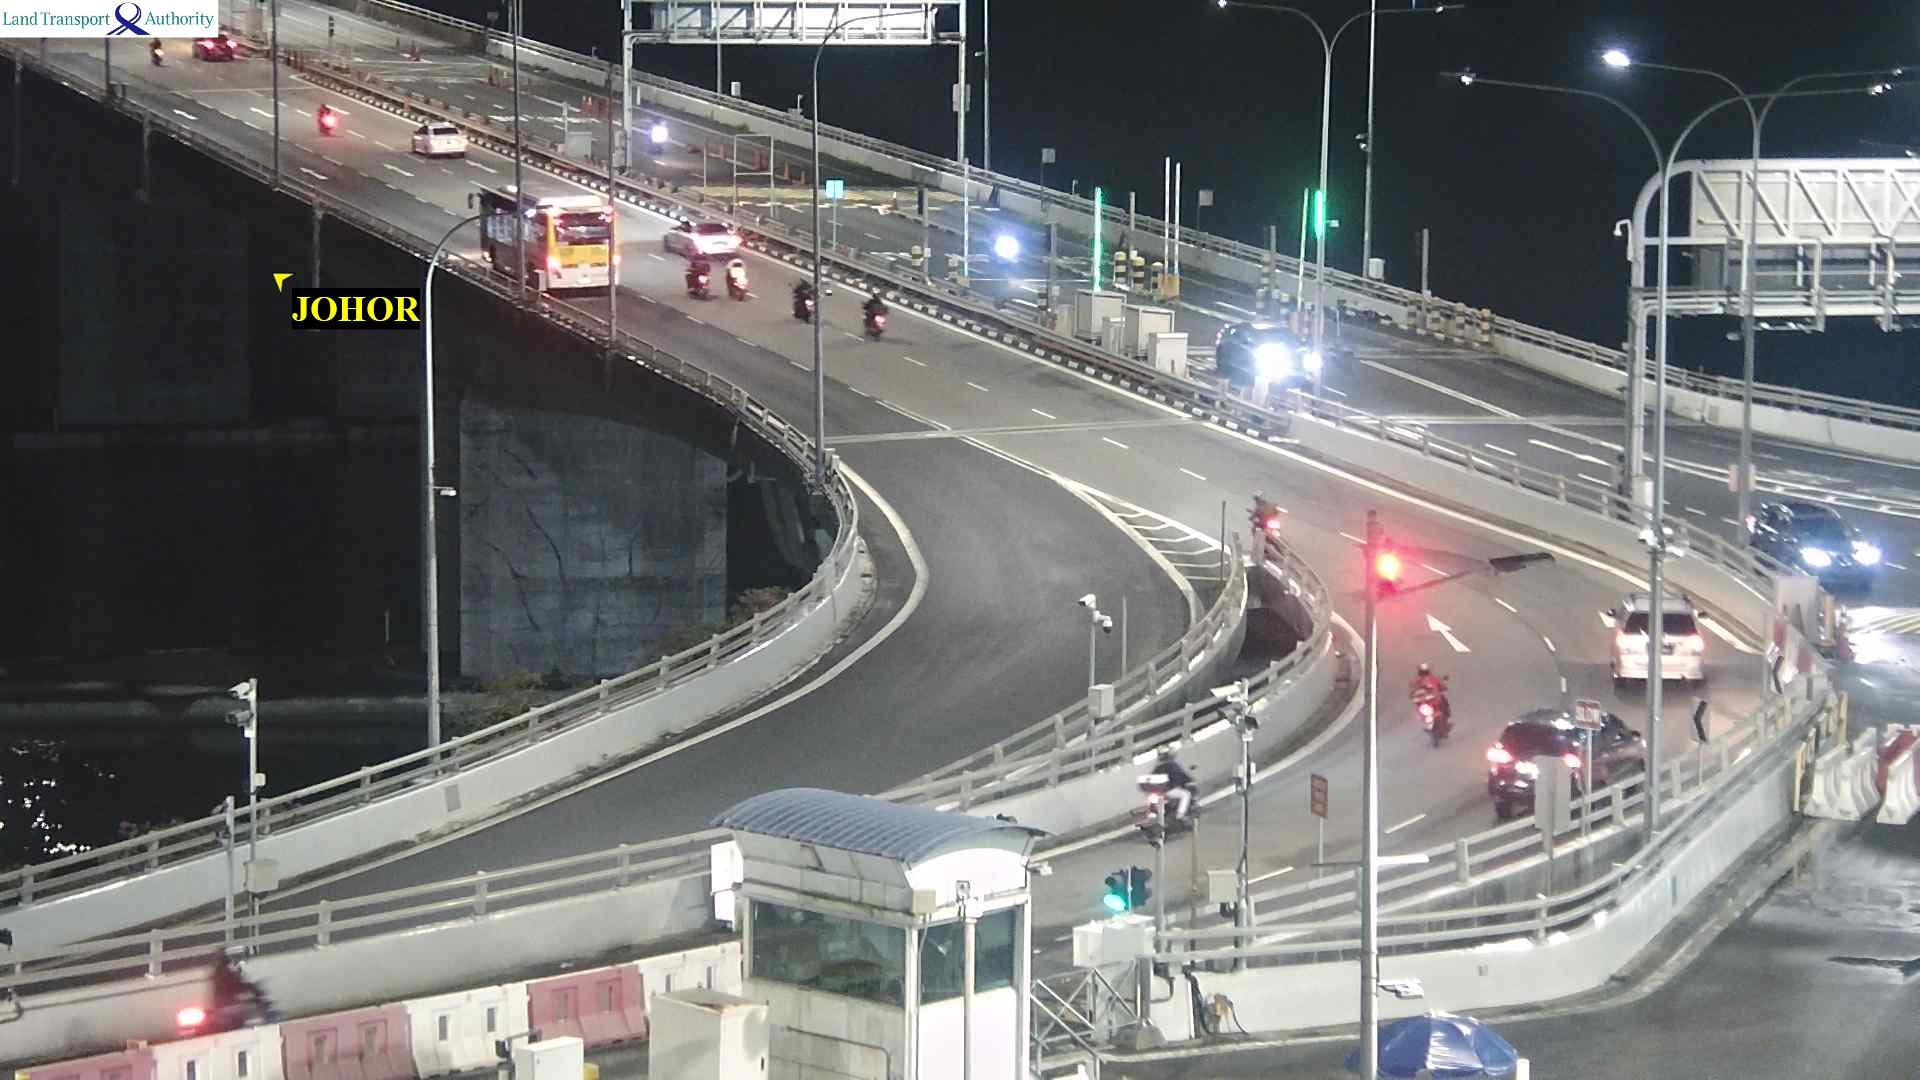vehicle-secondlink-johor: (479, 175, 616, 302), (1486, 707, 1646, 811), (175, 939, 280, 1042), (1600, 585, 1704, 686), (1138, 741, 1192, 845), (659, 214, 736, 253), (1407, 663, 1443, 744), (1366, 506, 1395, 589), (413, 119, 468, 161), (1245, 487, 1283, 543), (195, 28, 236, 58), (680, 260, 703, 301), (865, 291, 882, 342), (790, 272, 808, 318), (728, 253, 744, 302), (315, 100, 336, 136), (146, 38, 164, 59)
vehicle-secondlink-singapore: (1755, 492, 1875, 592), (1218, 319, 1316, 386)
